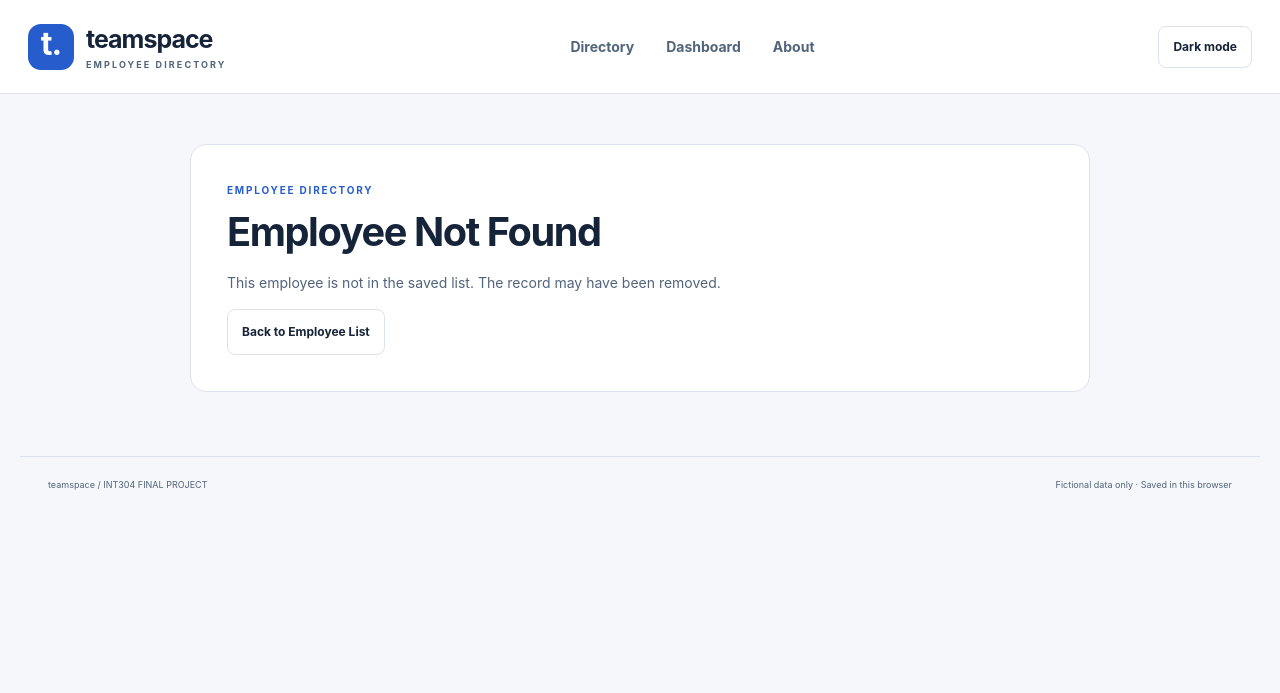
Test case: handles a missing employee without showing an empty detail record
Expected: the heading "Employee Not Found" is shown, [227,208,601,256]
What coordinates should you click on to do the following:
click the link "Back to Employee List"
I would click on:
 (306, 332)
Its box is [227,309,385,355].
(page scrolled)
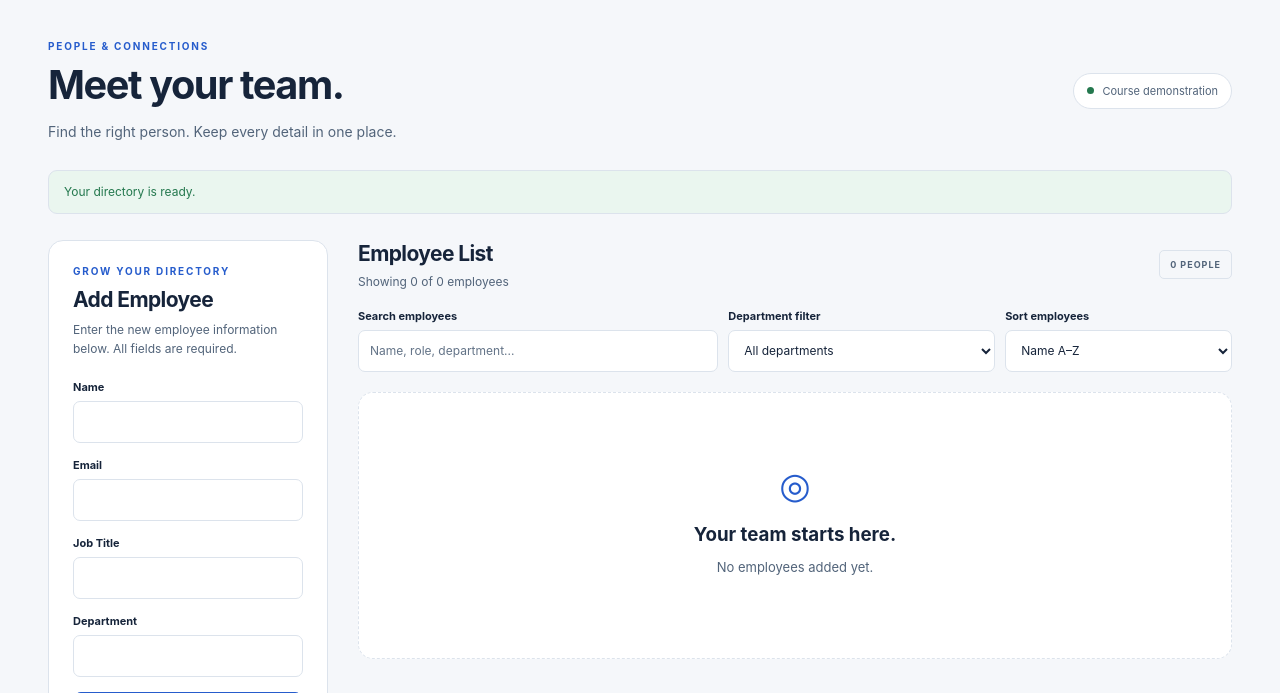
Expected: the text "No employees added yet." is shown, [717,559,873,575]
